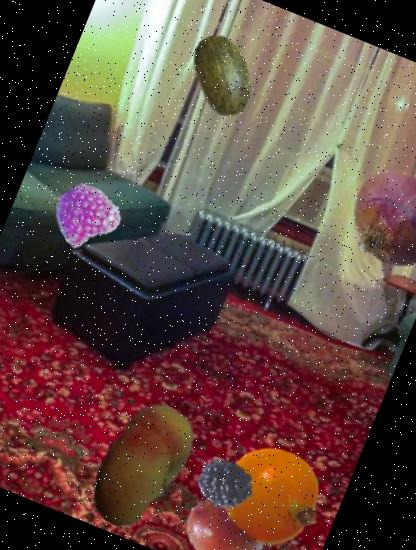Melon: (170, 22, 278, 130)
Mulberry: (170, 442, 264, 536)
Onion: (327, 154, 416, 287)
Peach: (55, 380, 227, 550)
Physalis: (205, 428, 339, 550)
Potato: (173, 477, 278, 550)
Raspberry: (44, 173, 126, 255)
